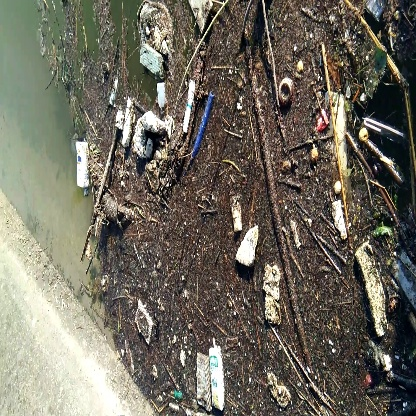milk-box: (206, 345, 233, 413), (74, 141, 93, 194)
